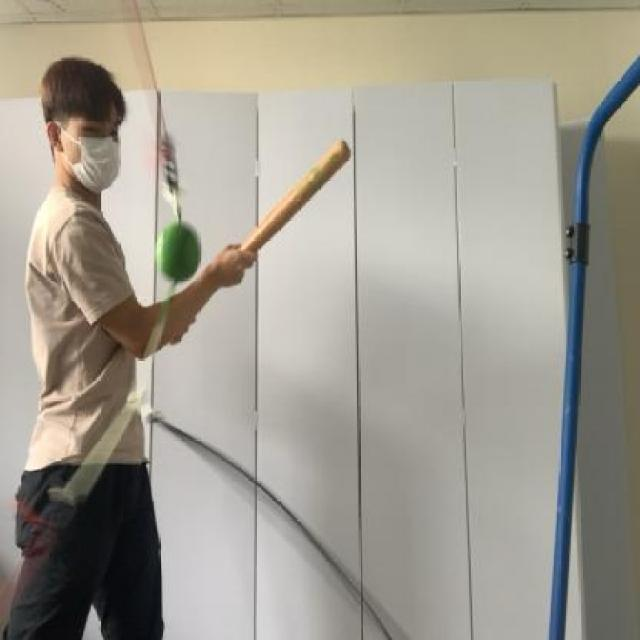baseball: (153, 210, 205, 296)
